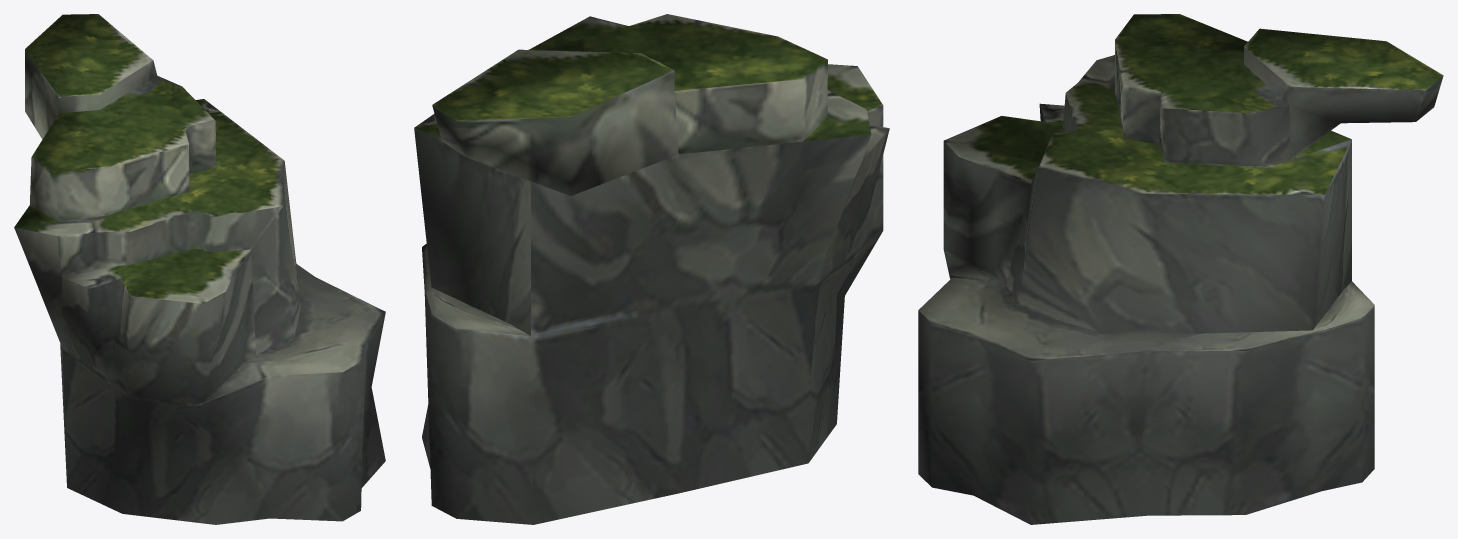
File: Battle01_DuoBaoQiBingRock_03.FBX
The picture shows the model from 3 angles, left to right: view 1: azimuth 30°, elevation 25°; view 2: azimuth 150°, elevation 25°; view 3: azimuth 270°, elevation 25°; orthographic projection. The views are drawn at different scales.
Visible parts, largest first — view 1: Battle01_DuoBaoQiBingRock_03; view 2: Battle01_DuoBaoQiBingRock_03; view 3: Battle01_DuoBaoQiBingRock_03.
Boxes of the visible parts, left/top/right/bottom form: Battle01_DuoBaoQiBingRock_03: left=14, top=14, right=385, bottom=524; Battle01_DuoBaoQiBingRock_03: left=414, top=14, right=889, bottom=524; Battle01_DuoBaoQiBingRock_03: left=918, top=14, right=1443, bottom=524.
Size of the model in its own units: 5.1 by 5.17 by 6.53.
